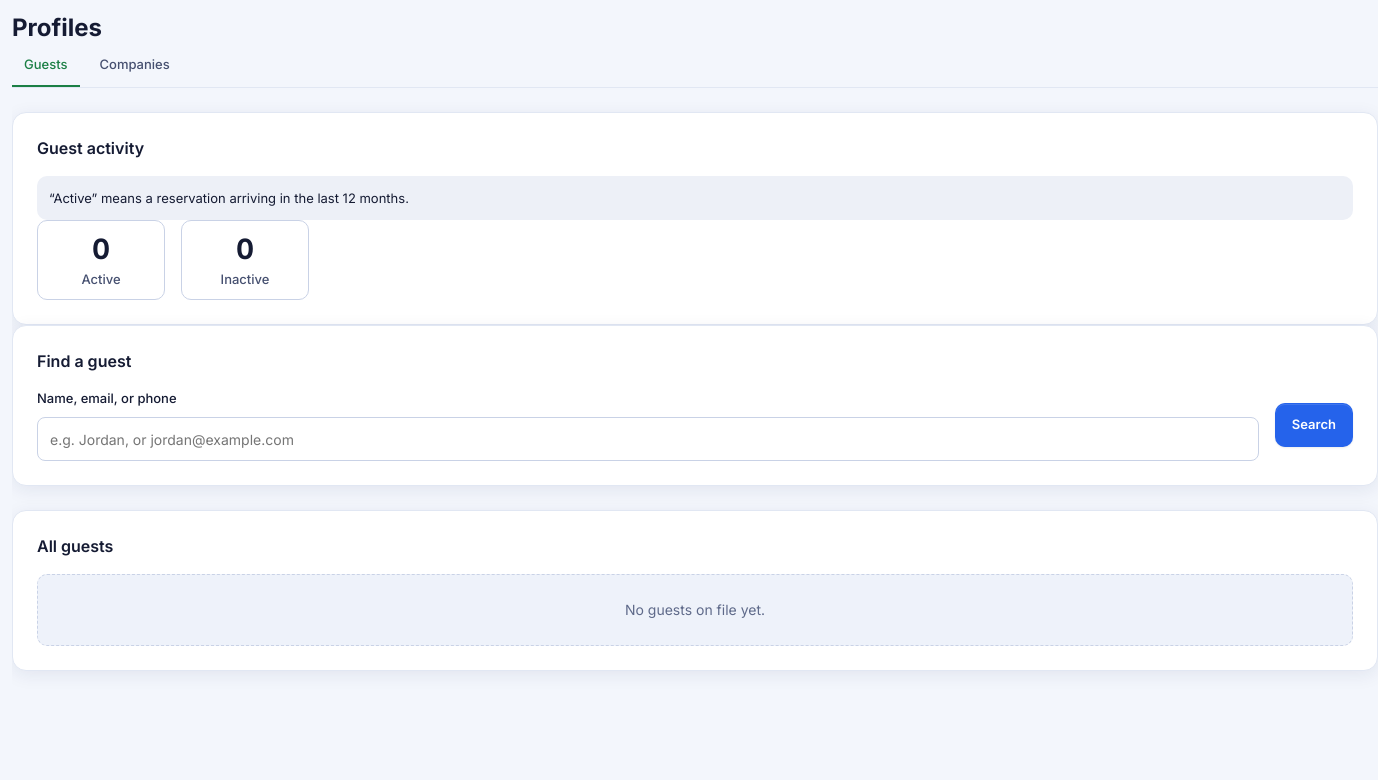
Scenario: <ProfilesScreen> › shows the backend error message on a failed search
Expected: the heading "All guests" is shown, x1=37 y1=536 x2=113 y2=556
Type "x" into the field labelled "Name, email, or phone" at (648,439), box x1=37 y1=417 x2=1259 y2=461
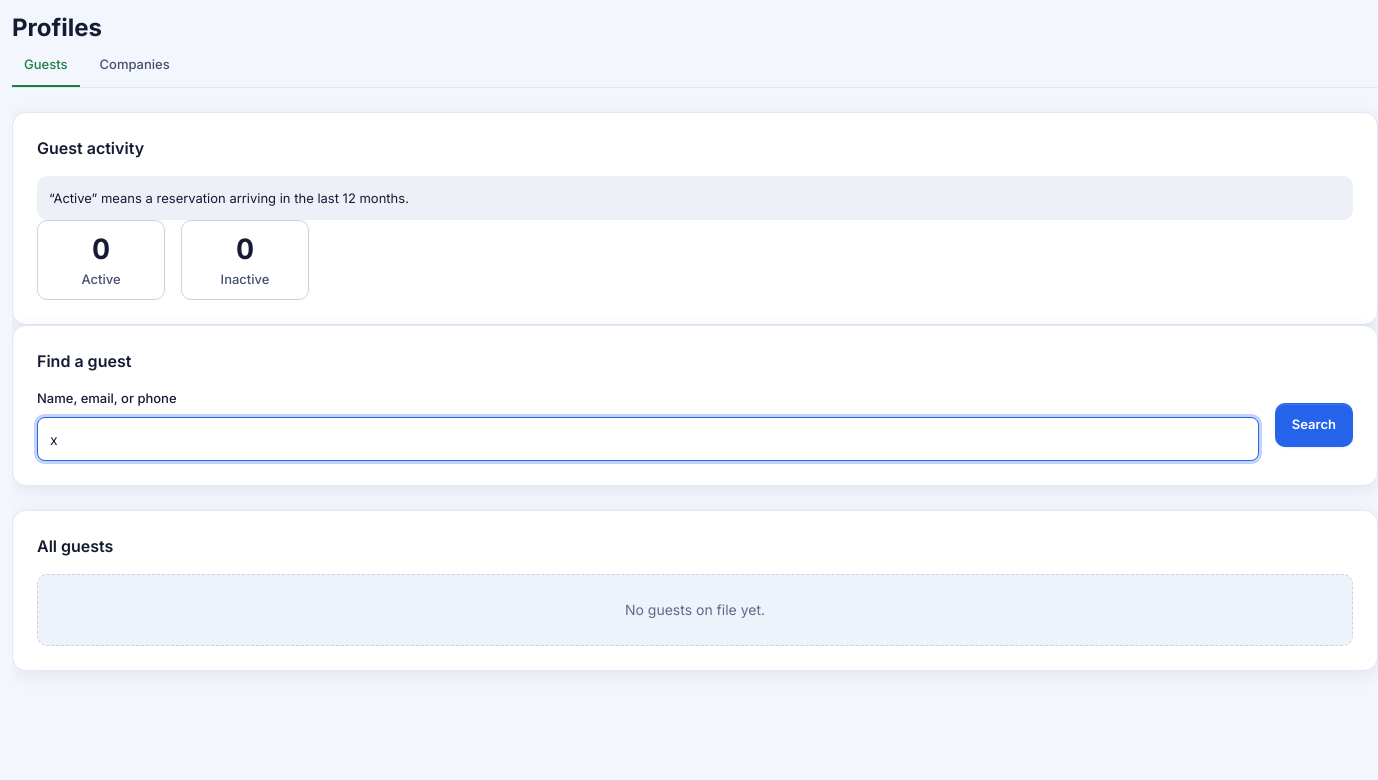
Click the button "Search" at (1314,425), box x1=1275 y1=403 x2=1353 y2=447
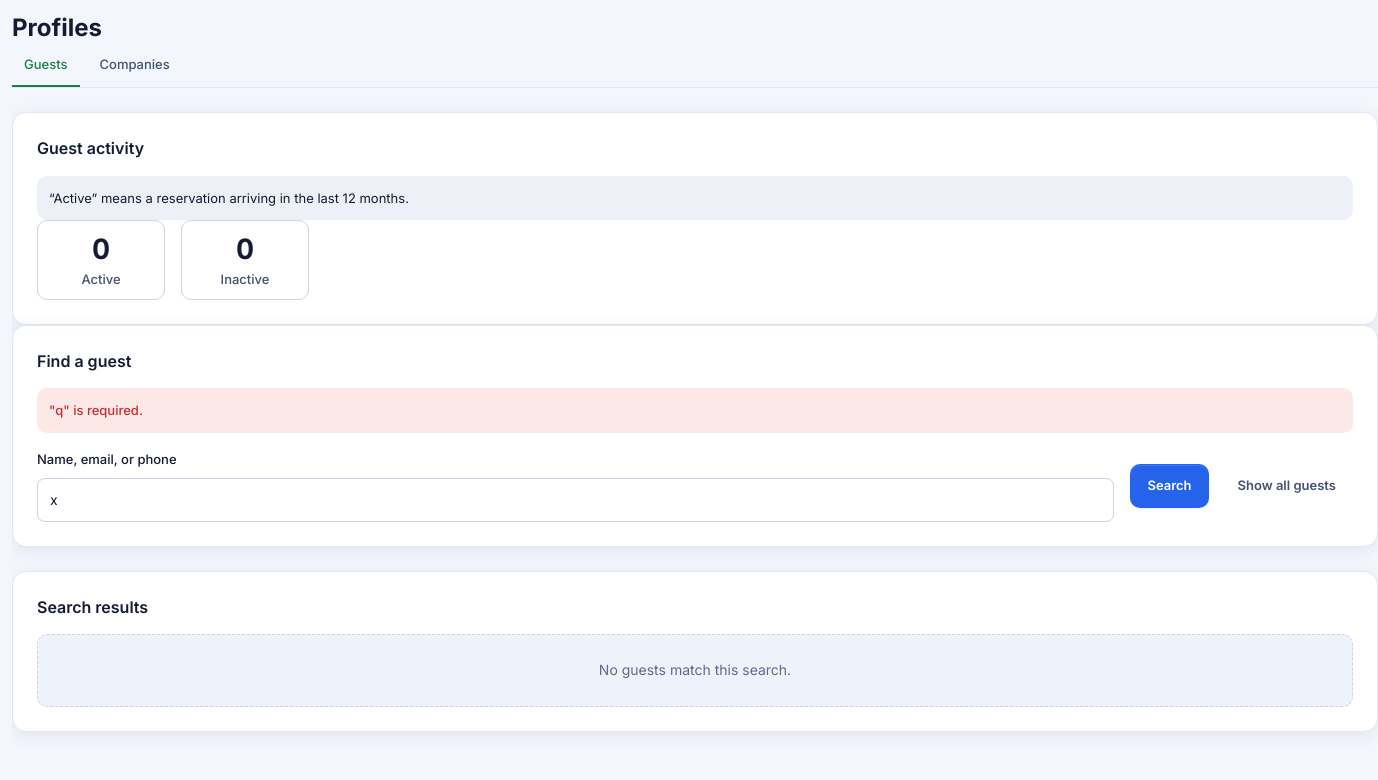
Expected: the message shows "is required", x1=49 y1=402 x2=143 y2=418
